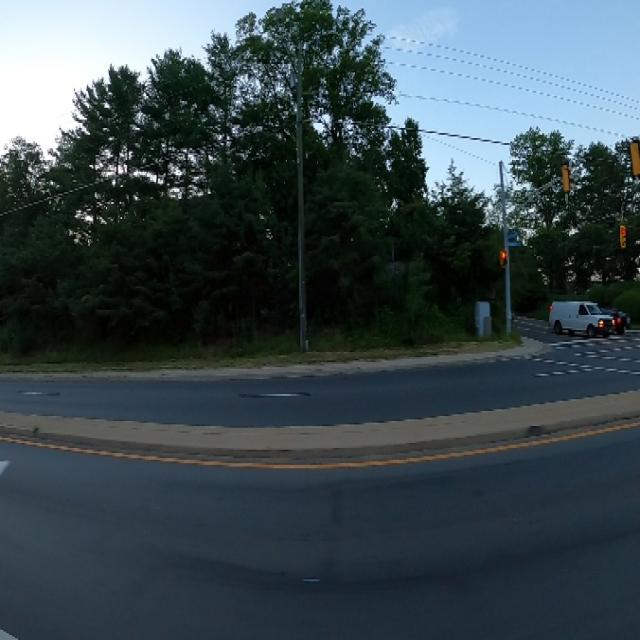cars: (545, 296, 614, 348), (596, 292, 631, 336)
